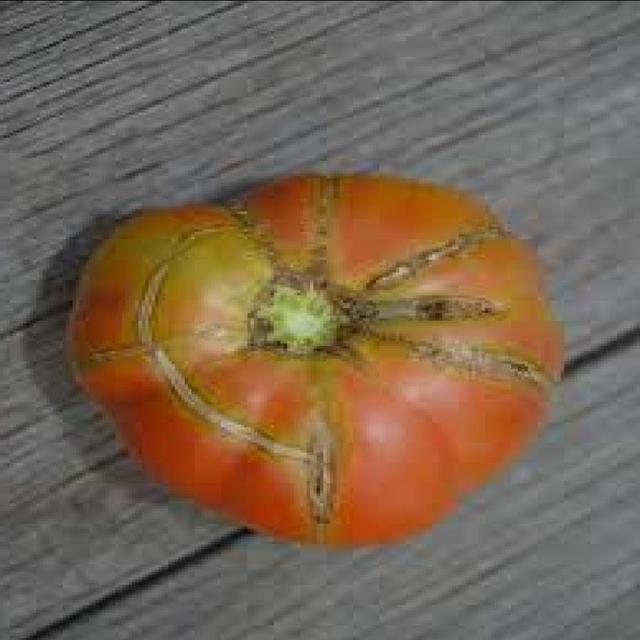Cracking Fruit: (152, 147, 296, 248)
